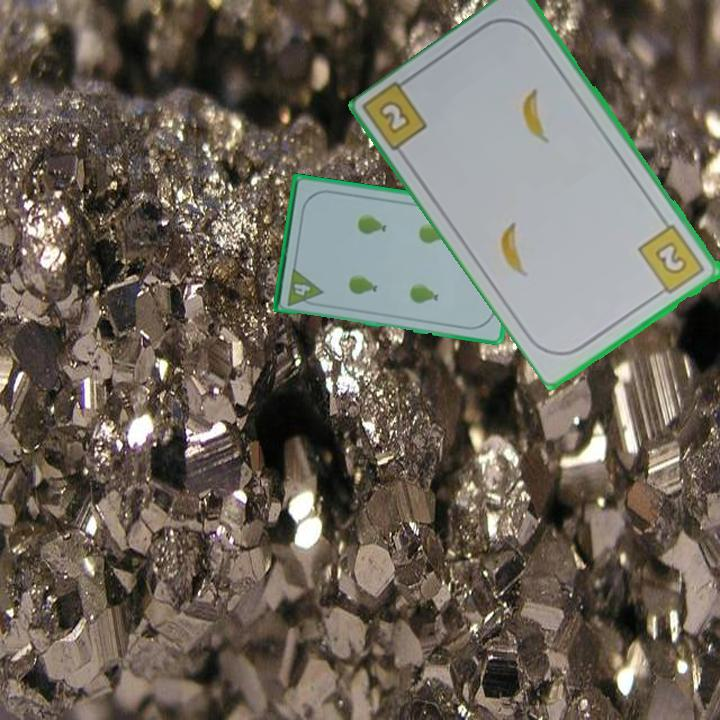2b: (635, 221, 708, 300), (375, 96, 414, 138)
4p: (284, 264, 325, 309)
